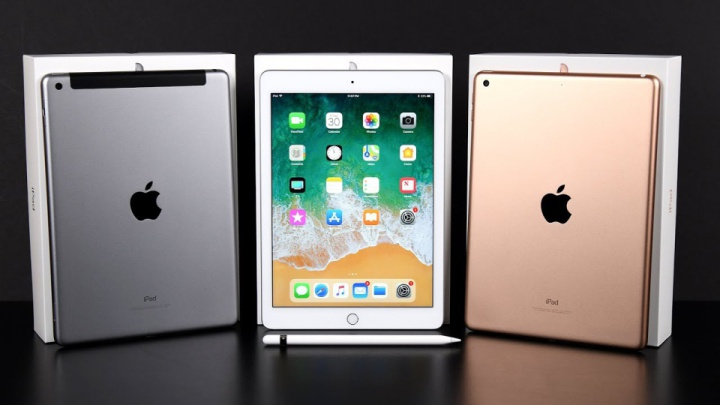apple: (100, 160, 200, 248), (527, 166, 596, 249)
